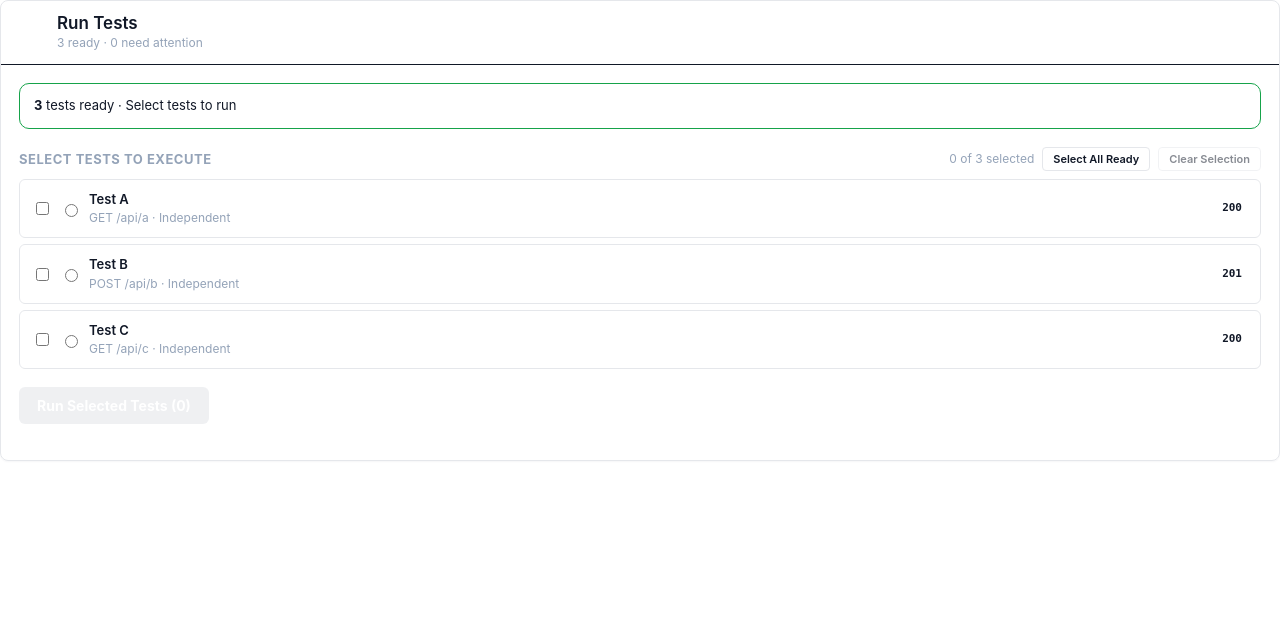
Scenario: ExecutionPanel — STEP 6.4D Batch Execution Validation › Selection › individual checkbox selection works
The width and height of the screenshot is (1280, 637).
Click the radio button next to "Test A" at [72, 210], box [65,204,78,216]
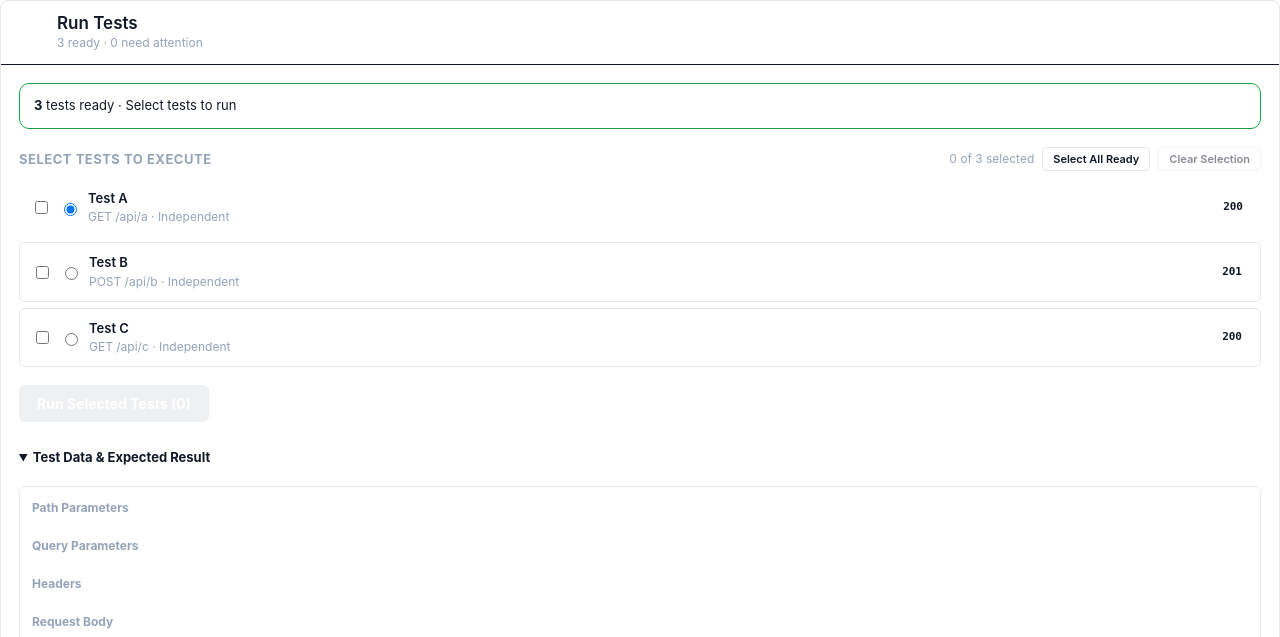
Result: the heading "Test Data & Expected Result" is shown at [33,449,210,465]
Result: the number of checkboxes is 3
Click the checkbox next to "Test A" at [42, 208], box [35,201,48,214]
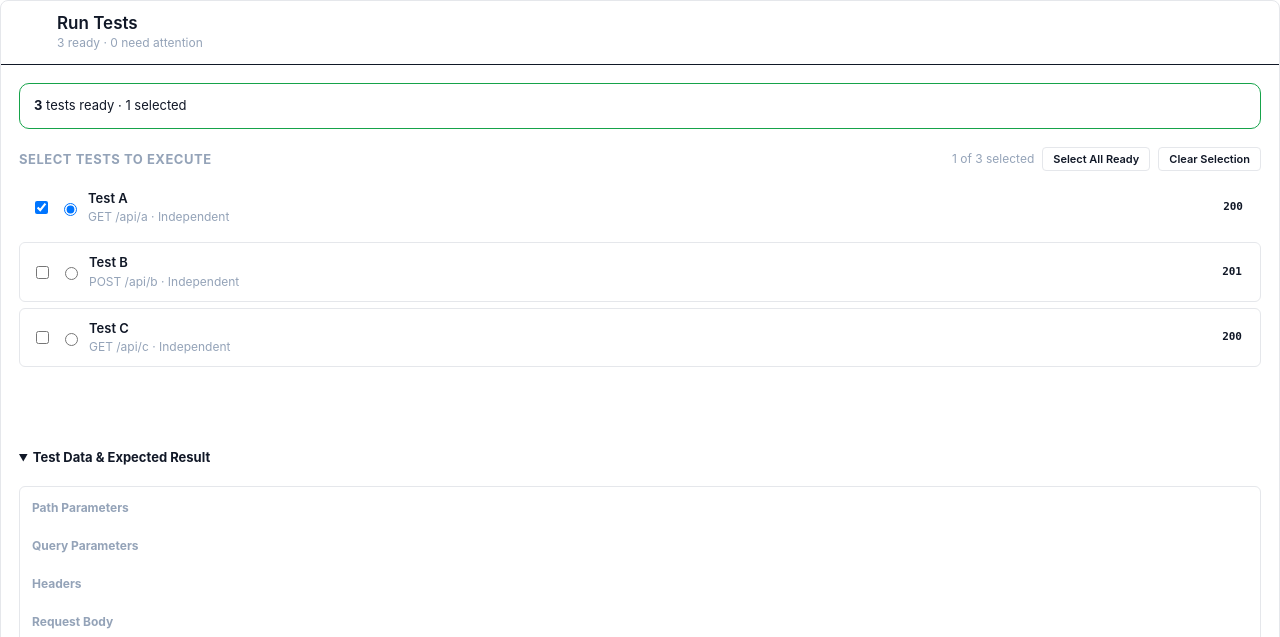
Result: the text "1 of 3 selected" is shown at [952,150,1034,168]
Click the checkbox next to "Test B" at [42, 272], box [36,266,49,278]
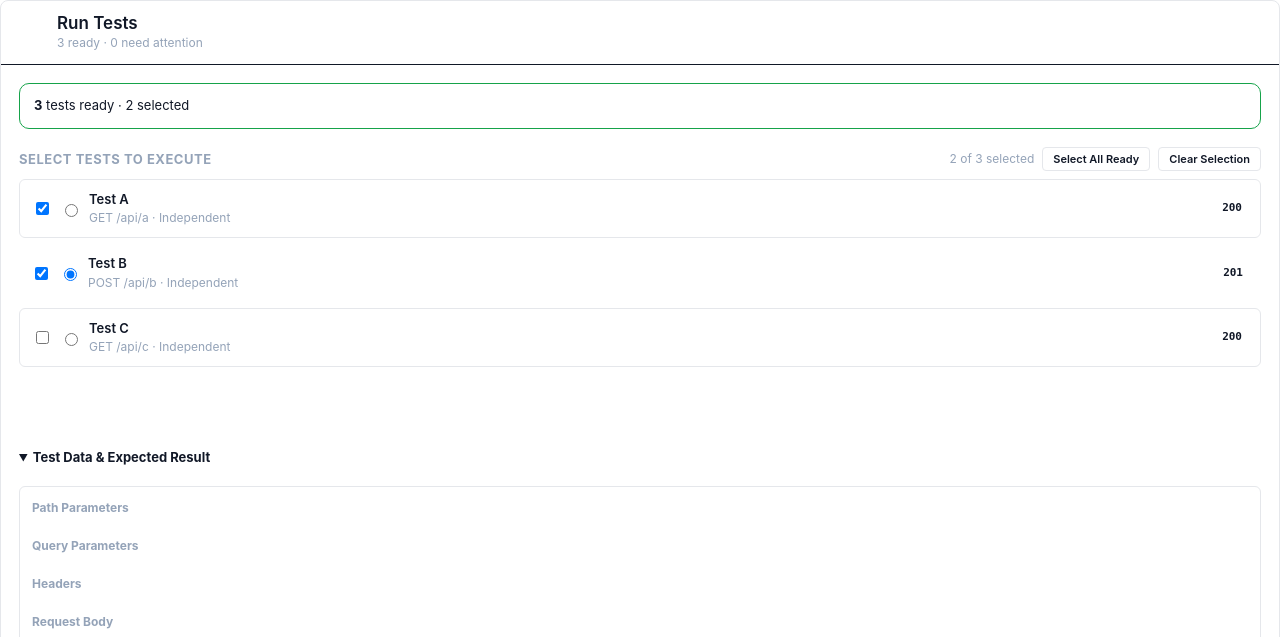
Result: the text "2 of 3 selected" is shown at [950,150,1034,168]
